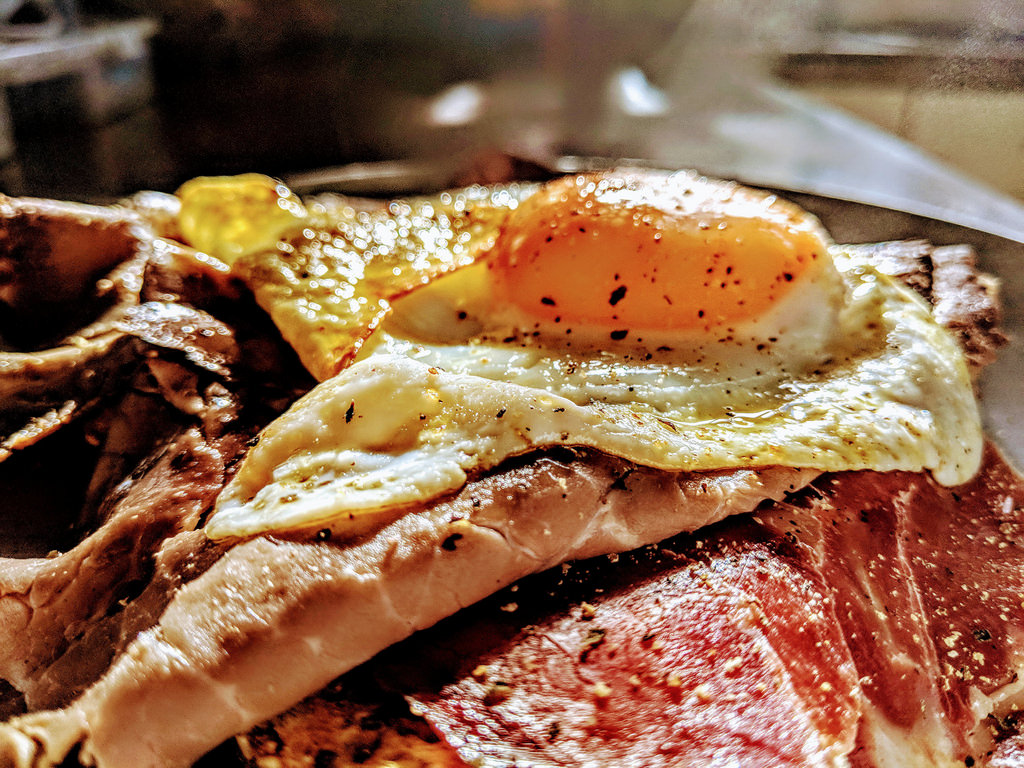fried egg: (187, 184, 987, 508)
